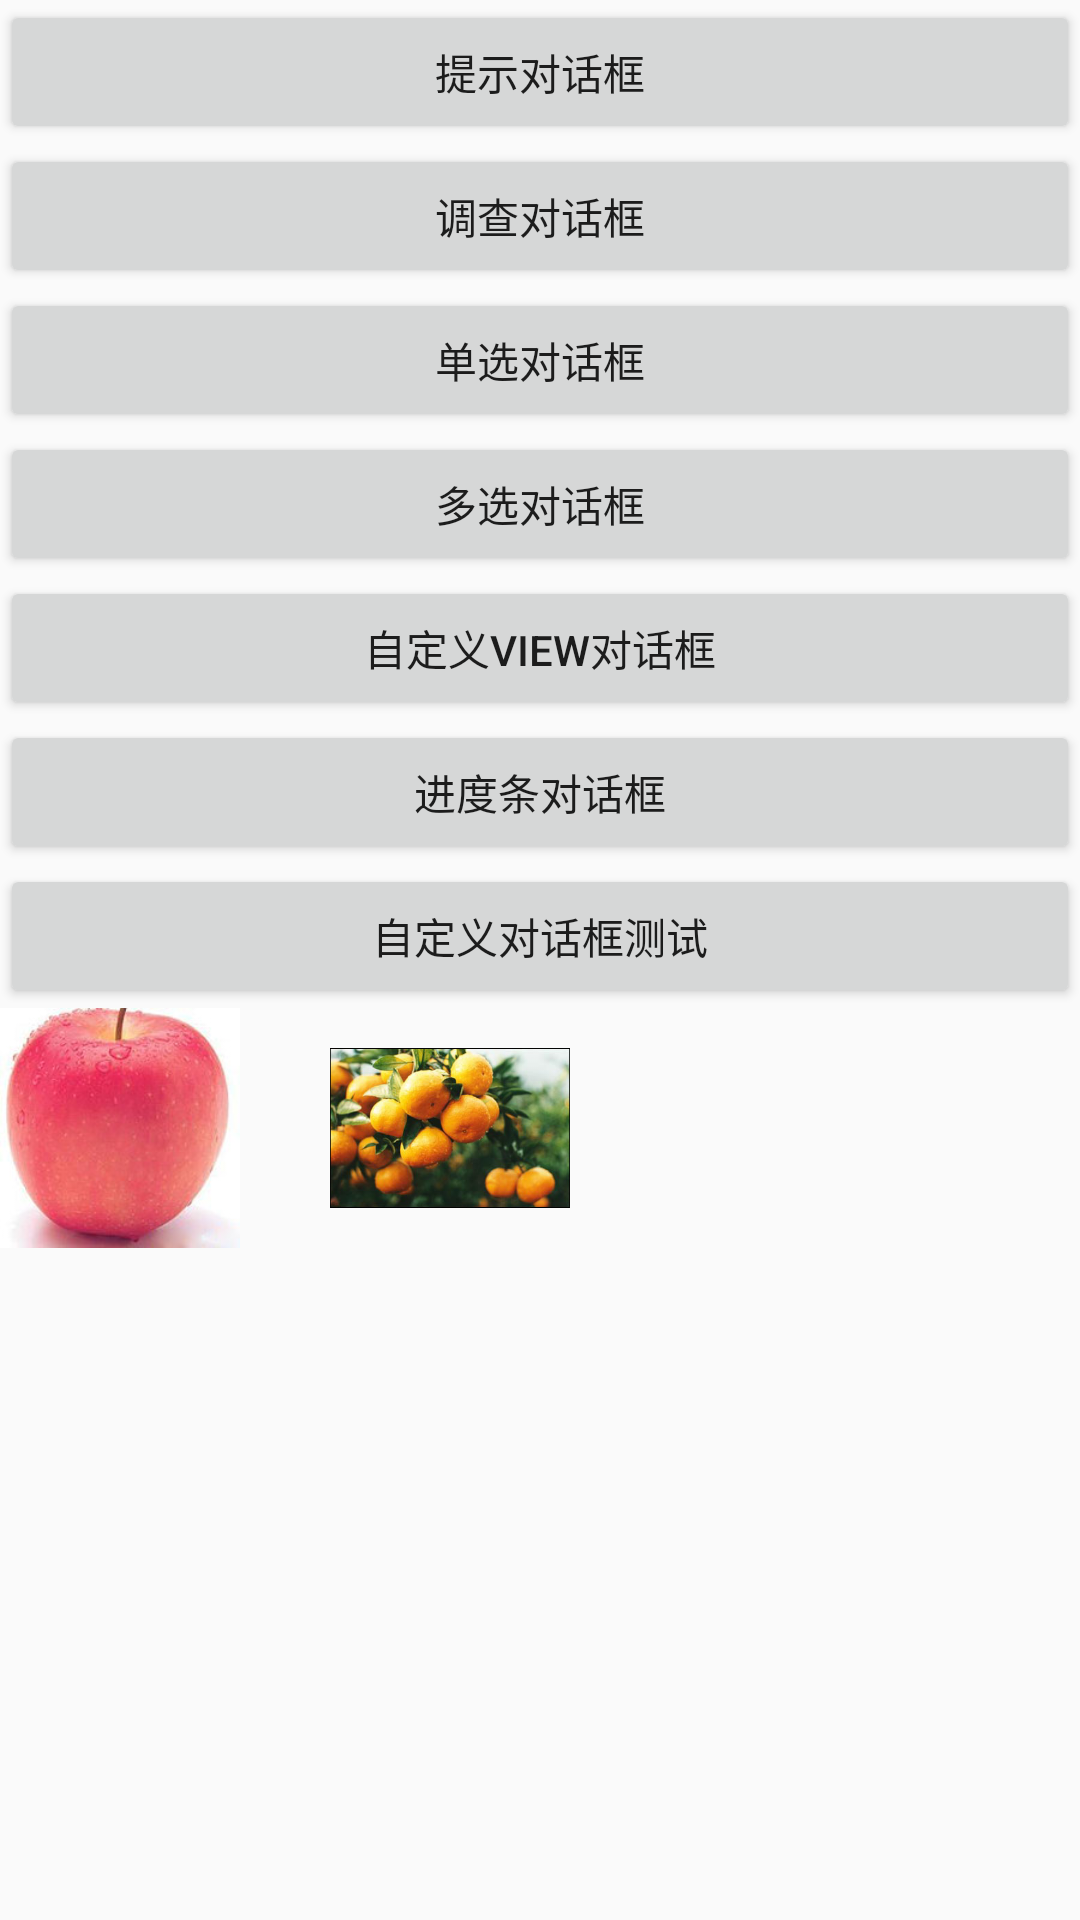

Named icons in this screenshot (1080 x 1920) and their centers, point (x, y):
apple: point (117, 1128)
